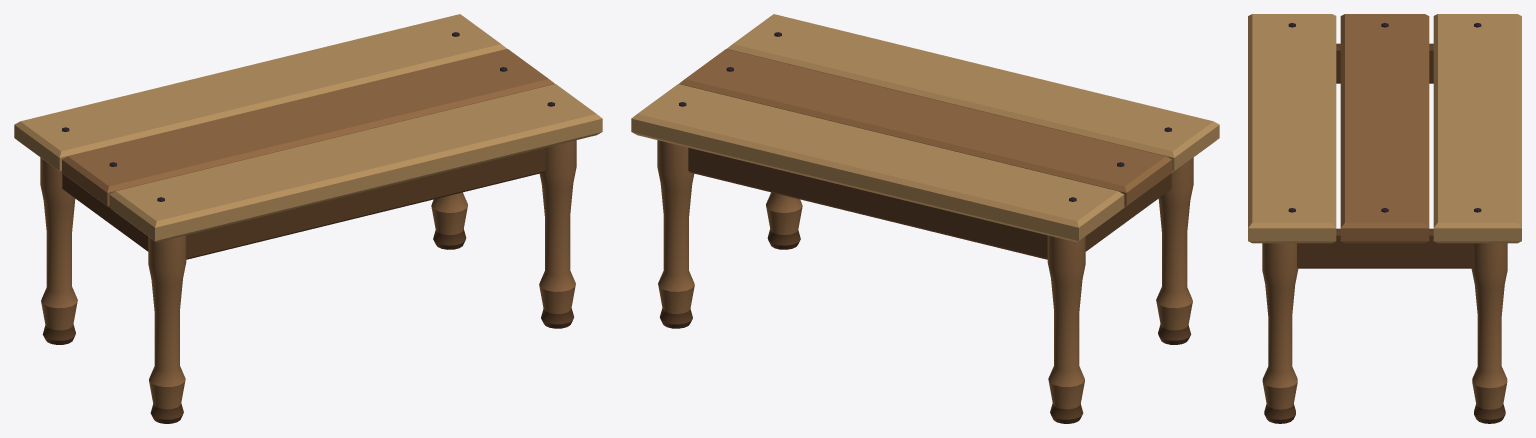
Rendered from Table_02.glb.
3 views of the same model, side by side, from view 1: azimuth 30°, elevation 25°; view 2: azimuth 150°, elevation 25°; view 3: azimuth 270°, elevation 25° (orthographic). The views are drawn at different scales.
Visible parts, largest first — view 1: Table_02; view 2: Table_02; view 3: Table_02.
Boxes of the visible parts, <box> form: Table_02: <box>14,14,602,423</box>; Table_02: <box>631,14,1219,423</box>; Table_02: <box>1248,14,1521,423</box>.
Bounding box in the file's own units: 7.02 × 3.23 × 3.83.
